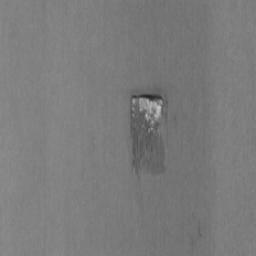Rolled pit: (130, 95, 167, 176)
